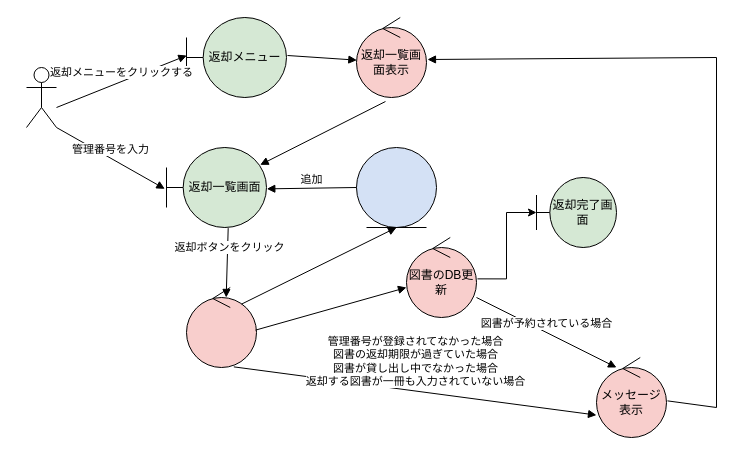
Some shapes in this 742 by 455 pixel diagram are drawn without their labels. Here are the shapes that lost their labels. From the top down, the box of each, then its label:
(26, 66, 56, 128): 事務職員
(356, 146, 436, 228): 図書情報
(186, 286, 256, 368): 内容を検証
